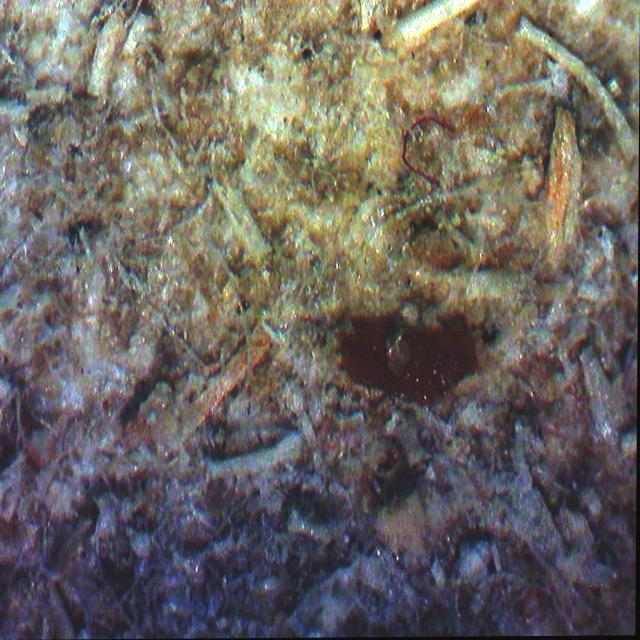microplastic: (391, 107, 461, 188)
